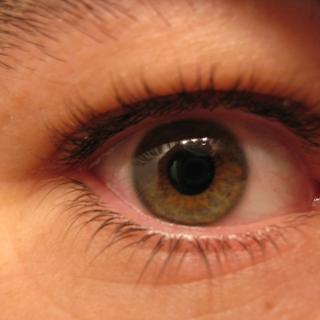pupil: (167, 147, 215, 195)
